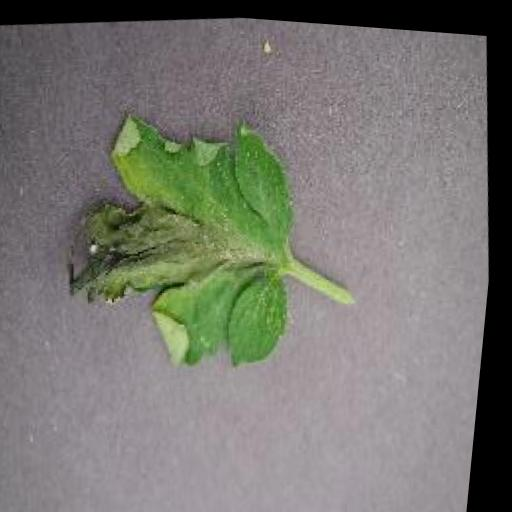Late Blight: (44, 93, 327, 393)
